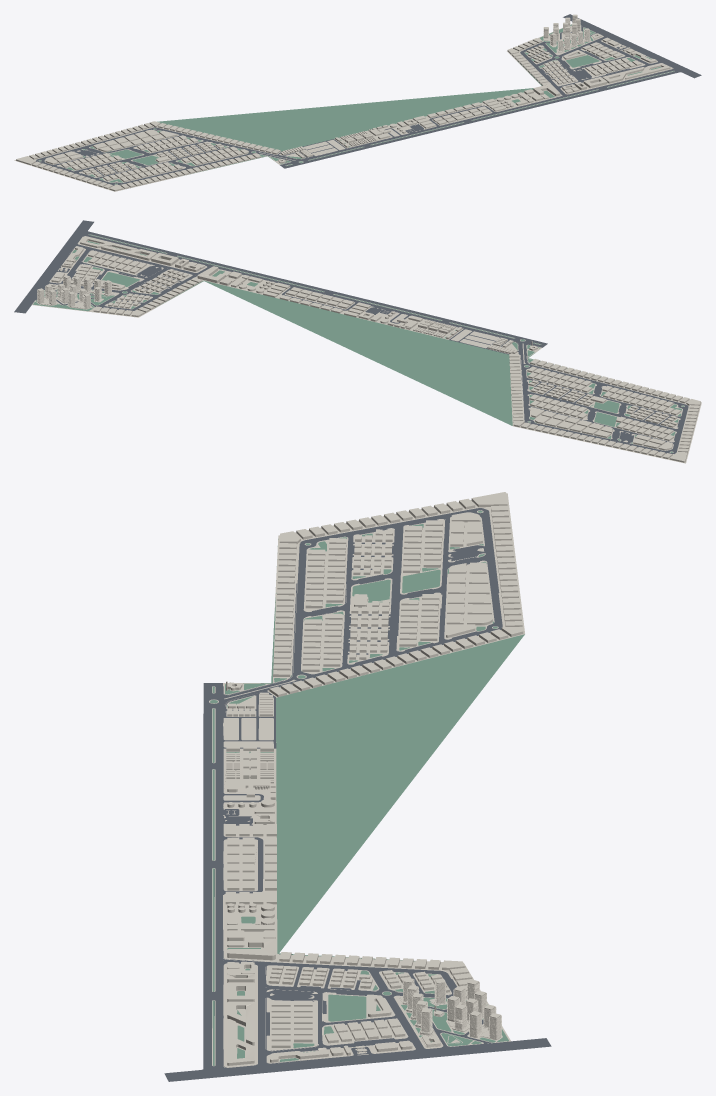
Rendered from medical-industrial-city.glb.
The picture shows the model from 3 angles, top to bottom: view 1: azimuth 30°, elevation 25°; view 2: azimuth 150°, elevation 25°; view 3: azimuth 270°, elevation 25°; orthographic projection. The views are drawn at different scales.
Parts seen in each view (by area): view 1: stone, green, ground; view 2: stone, green, ground; view 3: stone, green, ground.
Boxes of the visible parts, x1,y1,x2,y2 form: stone: (14, 14, 674, 191); green: (39, 24, 674, 184); ground: (36, 14, 701, 185); stone: (32, 234, 701, 463); green: (33, 234, 684, 452); ground: (14, 220, 688, 453); stone: (209, 492, 524, 1067); green: (210, 510, 524, 1065); ground: (164, 508, 551, 1081).
Size of the model in its own units: 102 by 1.82 by 28.47.
